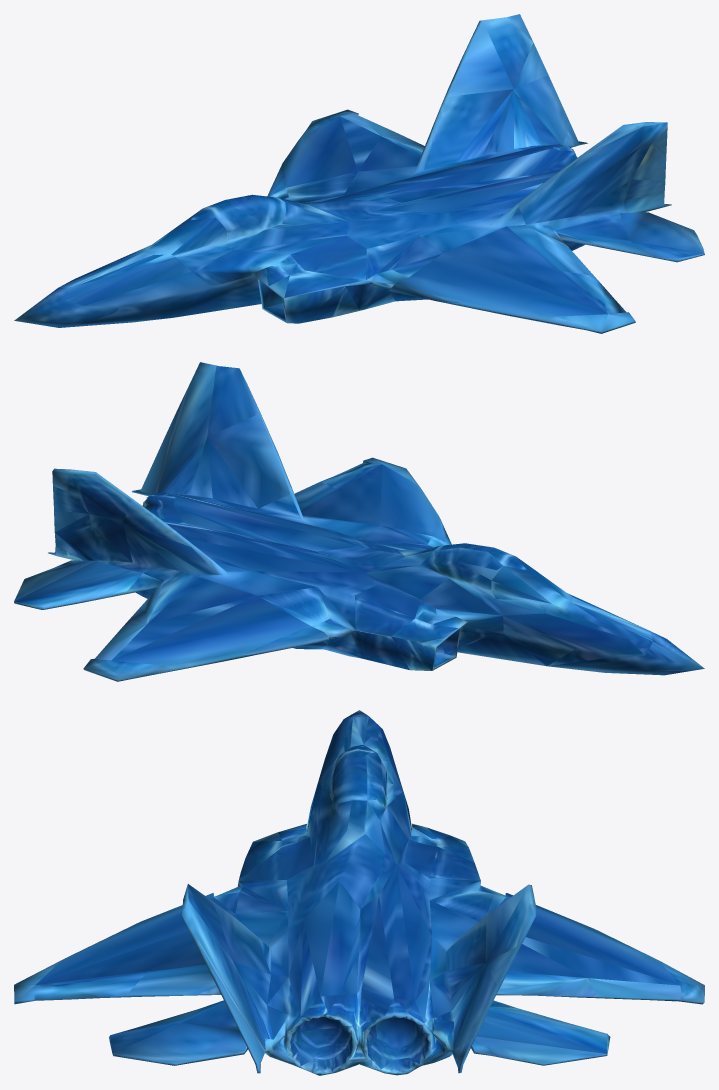
Rendered from avion-chasse.glb.
3 views of the same model, one above another, from view 1: azimuth 30°, elevation 25°; view 2: azimuth 150°, elevation 25°; view 3: azimuth 270°, elevation 25° (orthographic). The views are drawn at different scales.
Visible parts, largest first — view 1: Mesh_0; view 2: Mesh_0; view 3: Mesh_0.
Part boxes in pixels (box(x1,y1,x2,y2)): Mesh_0: box(14, 14, 704, 333); Mesh_0: box(14, 362, 704, 681); Mesh_0: box(14, 710, 704, 1075).
Bounding box in the file's own units: 1 × 0.2567 × 0.8124.
1 material, 1 textured.
